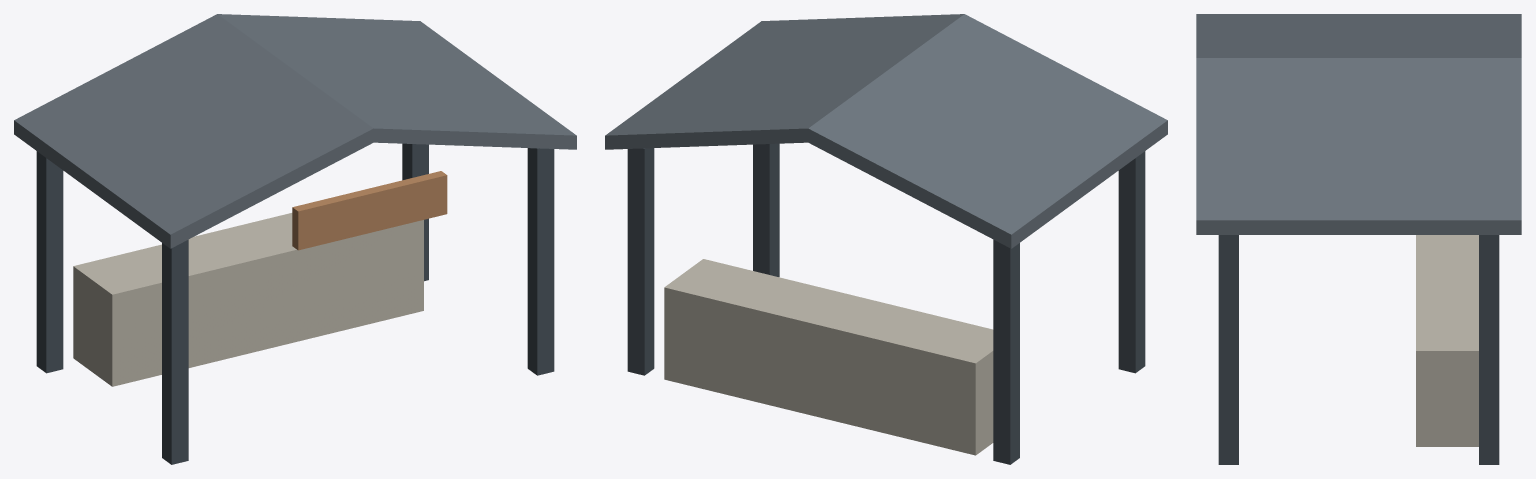
File: SM_AEON_MarketStall_6m.glb
3 views of the same model, side by side, from view 1: azimuth 30°, elevation 25°; view 2: azimuth 150°, elevation 25°; view 3: azimuth 270°, elevation 25° (orthographic). The views are drawn at different scales.
Visible parts, largest first — view 1: SM_AEON_MarketStall_6m; view 2: SM_AEON_MarketStall_6m; view 3: SM_AEON_MarketStall_6m.
Boxes of the visible parts, x1=… form: SM_AEON_MarketStall_6m: x1=14, y1=14, x2=576, y2=464; SM_AEON_MarketStall_6m: x1=605, y1=14, x2=1167, y2=464; SM_AEON_MarketStall_6m: x1=1196, y1=14, x2=1521, y2=464.
Bounding box in the file's own units: 6 × 4.2 × 4.
